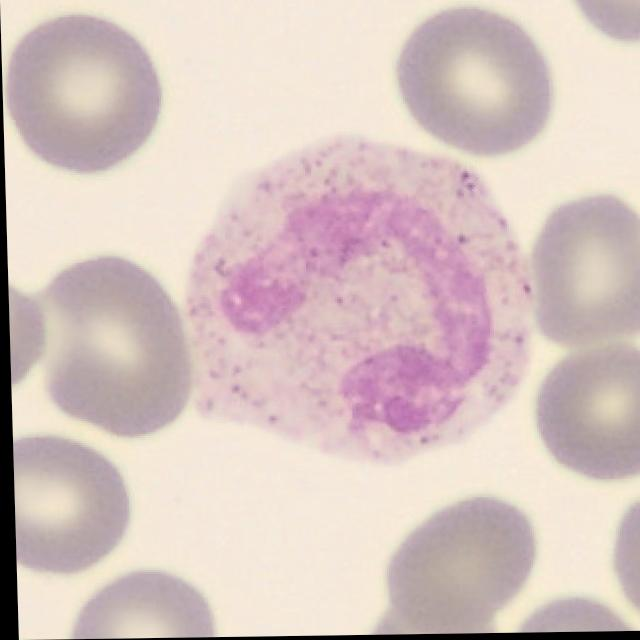Neutrofilo segmentado: (180, 134, 535, 468)
